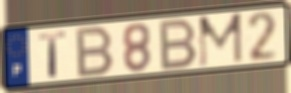2: (245, 10, 279, 64)
8: (121, 21, 153, 74)
B: (159, 16, 200, 73), (76, 23, 117, 80)
M: (197, 11, 245, 69)
T: (37, 30, 69, 80)
